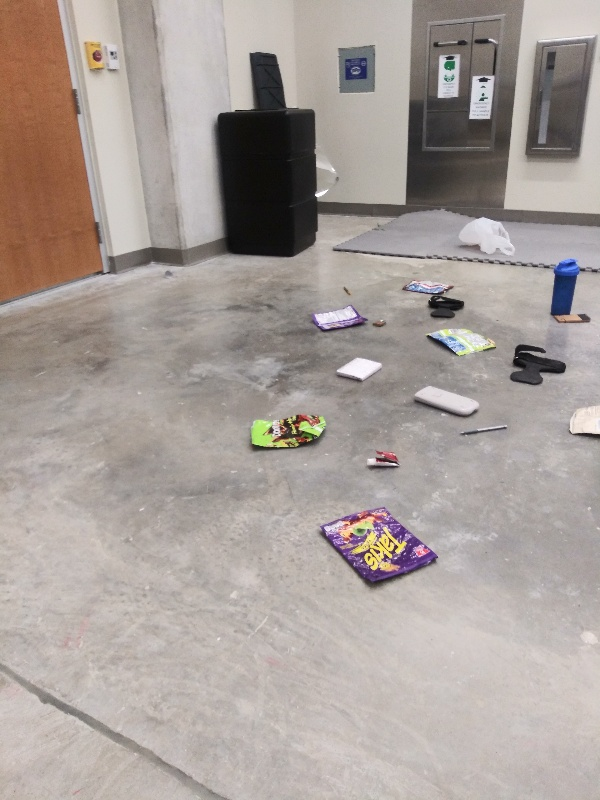bag: (316, 504, 443, 593), (243, 411, 330, 451), (420, 324, 500, 363), (305, 304, 371, 338), (565, 404, 600, 439), (399, 278, 458, 296)
